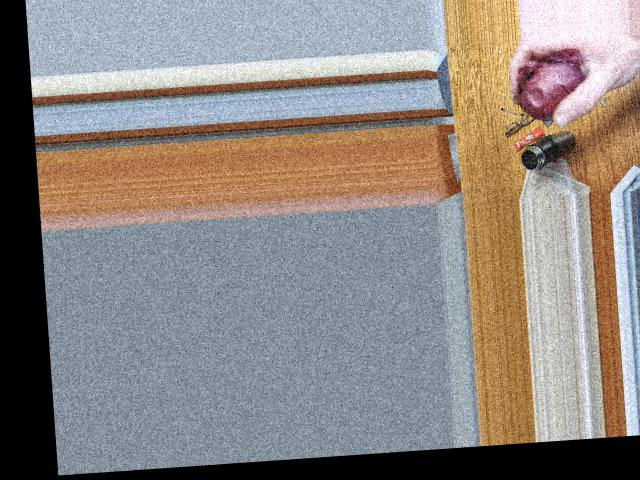onion: (516, 55, 587, 122)
